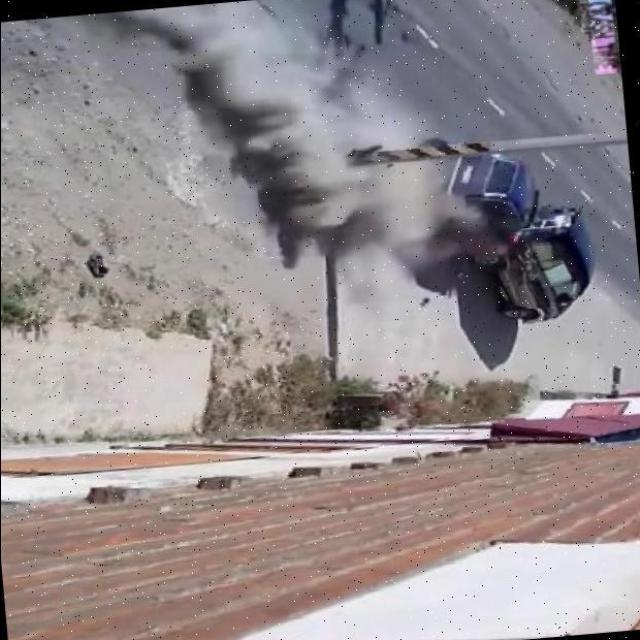accident: (436, 145, 600, 331)
